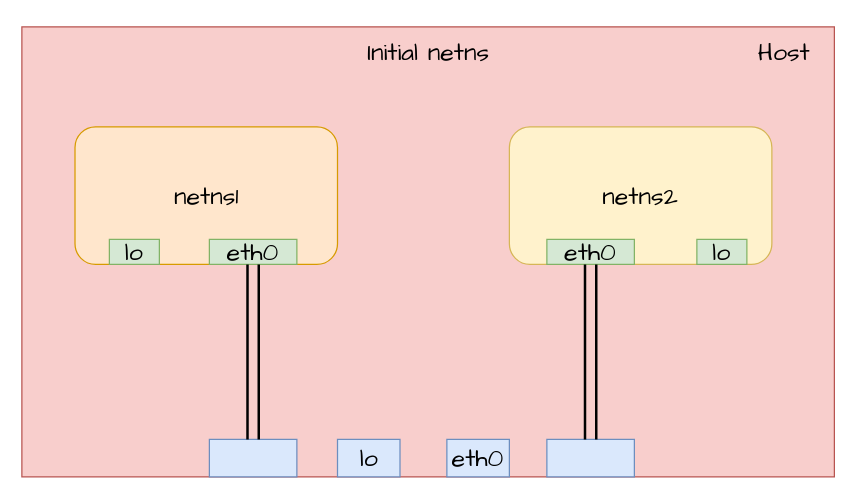
The diagram is 856 pixels wide and 499 high, and some of its shapes have lost their labels. The centre of each missing label's shape, as x and y in pixels:
veth1: point 252,457
veth2: point 590,457
